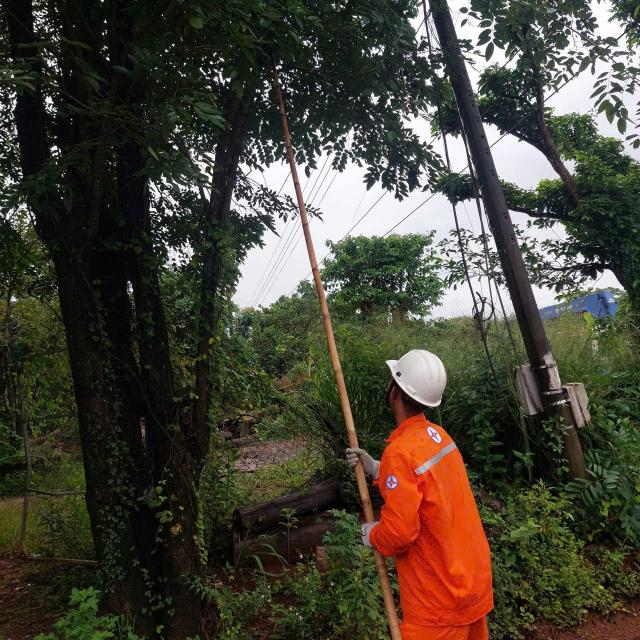gloves: (336, 443, 389, 483), (353, 516, 392, 551)
helmet: (385, 341, 451, 407)
